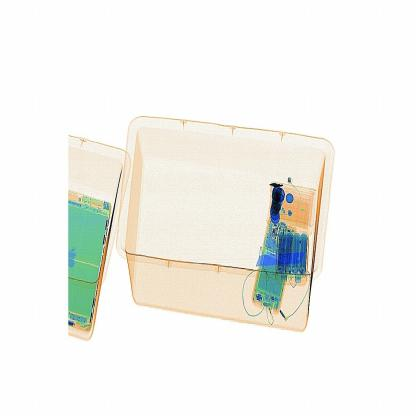pliers: (248, 253, 308, 271)
